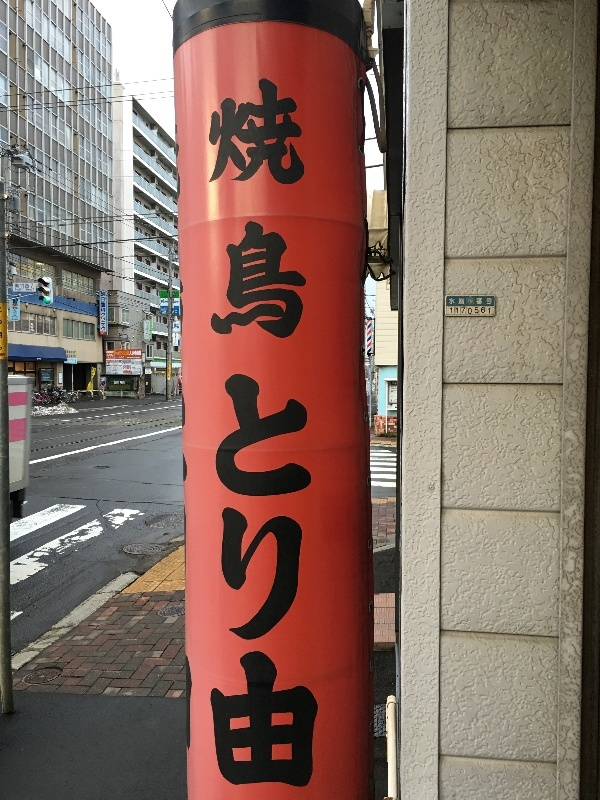text: (209, 63, 224, 794), (225, 63, 240, 794), (241, 63, 256, 794), (257, 63, 272, 794), (273, 63, 288, 794), (289, 63, 304, 794), (305, 63, 320, 794), (202, 63, 208, 794), (321, 63, 323, 794), (1, 307, 16, 351), (101, 291, 112, 332), (113, 359, 128, 376), (129, 359, 143, 376), (449, 296, 464, 306), (465, 306, 480, 316), (450, 306, 464, 316), (481, 296, 493, 306), (481, 306, 492, 316), (92, 367, 96, 393), (106, 359, 112, 376), (114, 350, 128, 357), (66, 358, 80, 365), (129, 350, 142, 357), (17, 283, 32, 289), (65, 350, 80, 355), (161, 300, 176, 304), (66, 354, 80, 358), (101, 331, 112, 336), (476, 296, 480, 306), (113, 357, 126, 360), (17, 288, 25, 292), (13, 301, 16, 310), (147, 369, 160, 371), (26, 288, 32, 292), (129, 357, 141, 359), (13, 310, 16, 317), (12, 316, 16, 321), (107, 353, 112, 357), (17, 301, 19, 310), (30, 323, 32, 332), (33, 323, 35, 332), (107, 351, 112, 354), (177, 326, 180, 330), (108, 357, 112, 360), (17, 316, 19, 321), (174, 326, 176, 330), (33, 288, 35, 292), (15, 283, 16, 289), (33, 283, 34, 289), (174, 301, 176, 304), (177, 301, 179, 304), (177, 324, 179, 327), (113, 353, 114, 357), (15, 288, 16, 292), (175, 324, 176, 327), (113, 351, 114, 354), (127, 357, 128, 359)
